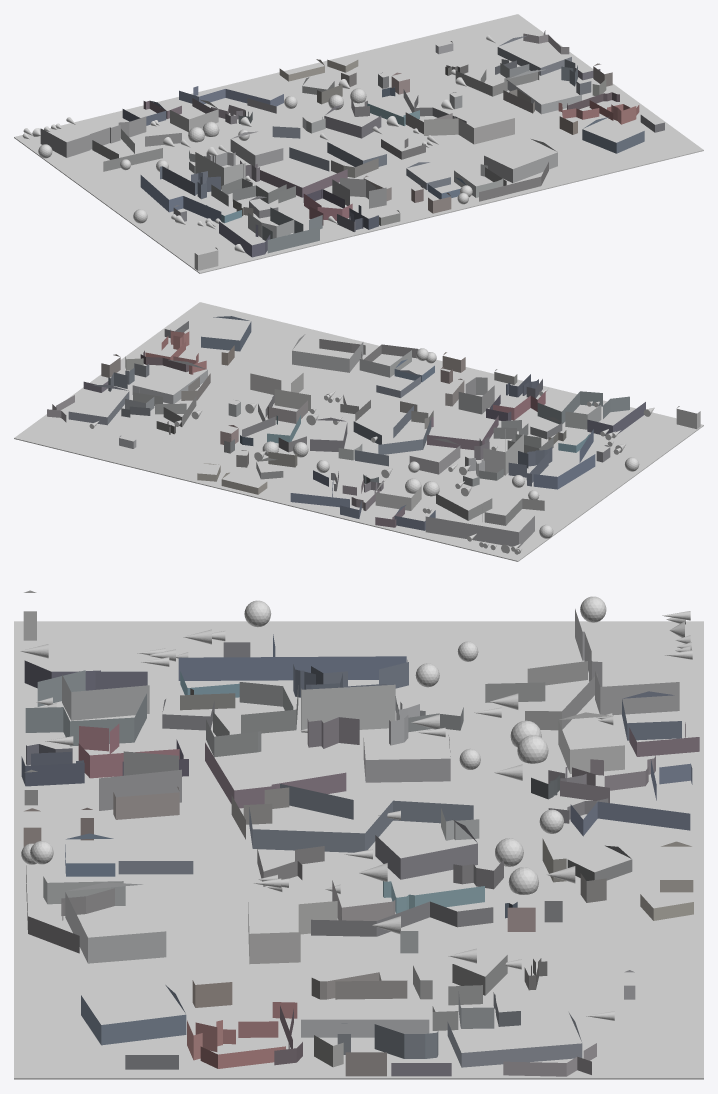
3 renders of one model, top to bottom at view 1: azimuth 30°, elevation 25°; view 2: azimuth 150°, elevation 25°; view 3: azimuth 270°, elevation 25°, orthographic. The views are drawn at different scales.
Parts seen in each view (by area): view 1: Ground_Base, BLD-006, BLD-078, BLD-096, BLD-014, BLD-061, BLD-075, BLD-104, BLD-089, BLD-068, BLD-004, BLD-032 (+19 smaller); view 2: Ground_Base, BLD-006, BLD-061, BLD-014, BLD-078, BLD-096, BLD-104, BLD-068, BLD-089, BLD-075, BLD-004, BLD-110 (+18 smaller); view 3: Ground_Base, BLD-061, BLD-068, BLD-075, BLD-054, BLD-014, BLD-096, BLD-089, BLD-006, BLD-104, BLD-004, BLD-045 (+44 smaller).
Boxes of the visible parts, x1=… form: Ground_Base: x1=14, y1=14, x2=703, y2=273; BLD-006: x1=40, y1=116, x2=146, y2=157; BLD-078: x1=424, y1=118, x2=514, y2=144; BLD-096: x1=262, y1=207, x2=322, y2=253; BLD-014: x1=92, y1=129, x2=181, y2=171; BLD-061: x1=272, y1=126, x2=386, y2=171; BLD-075: x1=211, y1=178, x2=295, y2=206; BLD-104: x1=484, y1=139, x2=557, y2=182; BLD-089: x1=332, y1=178, x2=386, y2=208; BLD-068: x1=140, y1=175, x2=221, y2=221; BLD-004: x1=179, y1=86, x2=283, y2=106; BLD-032: x1=455, y1=69, x2=539, y2=96; Ground_Base: x1=14, y1=302, x2=703, y2=561; BLD-006: x1=425, y1=507, x2=534, y2=547; BLD-061: x1=353, y1=406, x2=431, y2=466; BLD-014: x1=436, y1=493, x2=544, y2=525; BLD-078: x1=250, y1=373, x2=310, y2=411; BLD-096: x1=537, y1=391, x2=629, y2=424; BLD-104: x1=292, y1=334, x2=363, y2=372; BLD-068: x1=533, y1=429, x2=595, y2=489; BLD-089: x1=458, y1=377, x2=494, y2=414; BLD-075: x1=493, y1=420, x2=553, y2=453; BLD-004: x1=290, y1=470, x2=361, y2=518; BLD-110: x1=319, y1=339, x2=418, y2=361; Ground_Base: x1=14, y1=621, x2=703, y2=1079; BLD-061: x1=249, y1=783, x2=473, y2=852; BLD-068: x1=178, y1=634, x2=406, y2=680; BLD-075: x1=206, y1=682, x2=298, y2=757; BLD-054: x1=301, y1=684, x2=395, y2=732; BLD-014: x1=485, y1=661, x2=597, y2=730; BLD-096: x1=25, y1=670, x2=146, y2=746; BLD-089: x1=99, y1=751, x2=181, y2=810; BLD-006: x1=575, y1=609, x2=679, y2=715; BLD-104: x1=65, y1=882, x2=166, y2=963; BLD-004: x1=570, y1=760, x2=692, y2=836; BLD-045: x1=311, y1=901, x2=493, y2=936.
Bounding box in the file's own units: 244 × 12.43 × 154.
